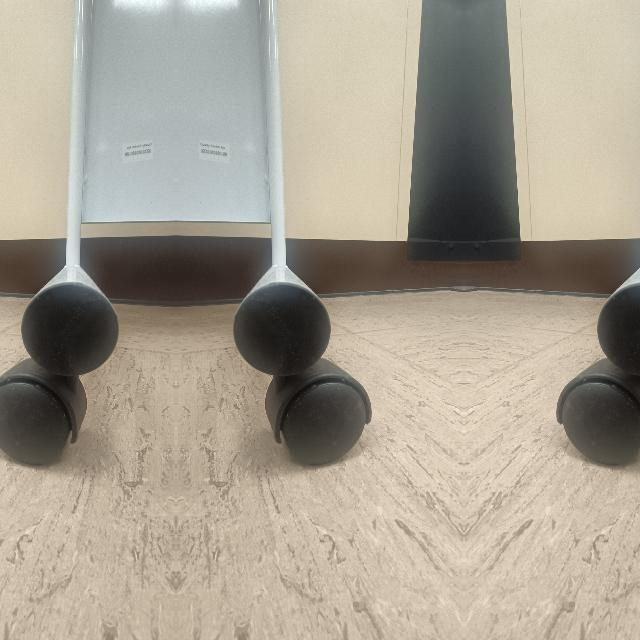obstacle: (176, 176, 374, 470), (0, 176, 174, 470), (552, 176, 640, 470)
